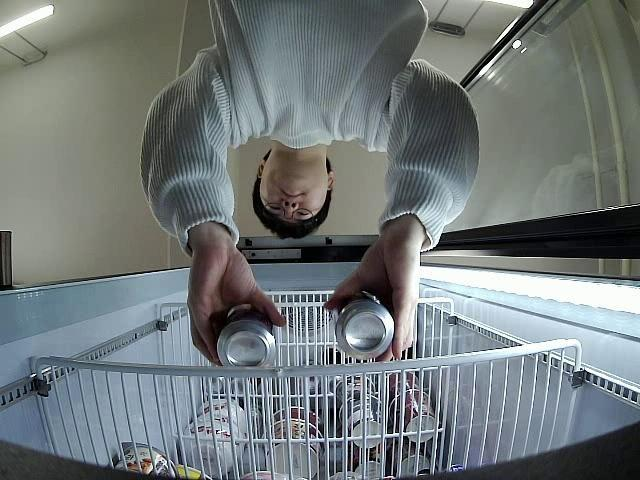14_welchsGrape: (332, 289, 394, 360), (216, 300, 277, 370)
